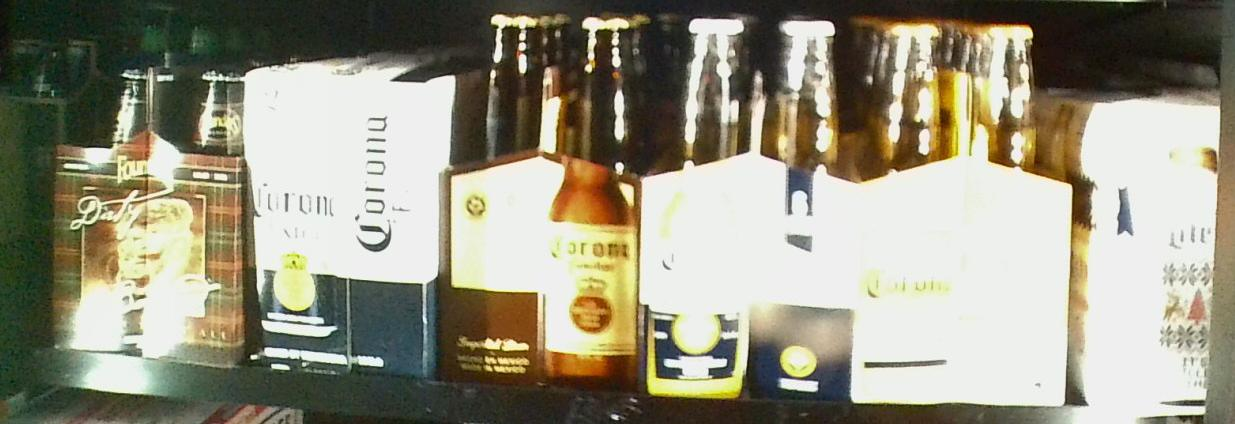bottle: (858, 16, 1072, 410), (642, 14, 858, 402), (445, 8, 634, 389), (52, 61, 245, 365), (245, 67, 430, 380), (1079, 98, 1219, 411)
